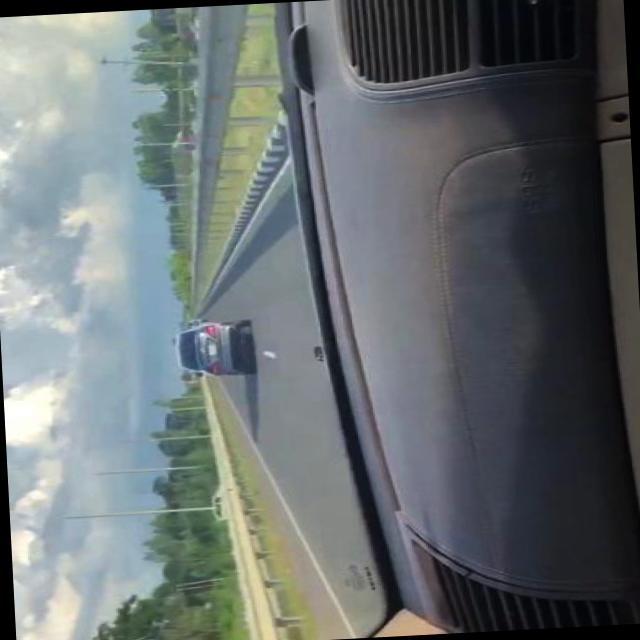car: (172, 320, 252, 378)
